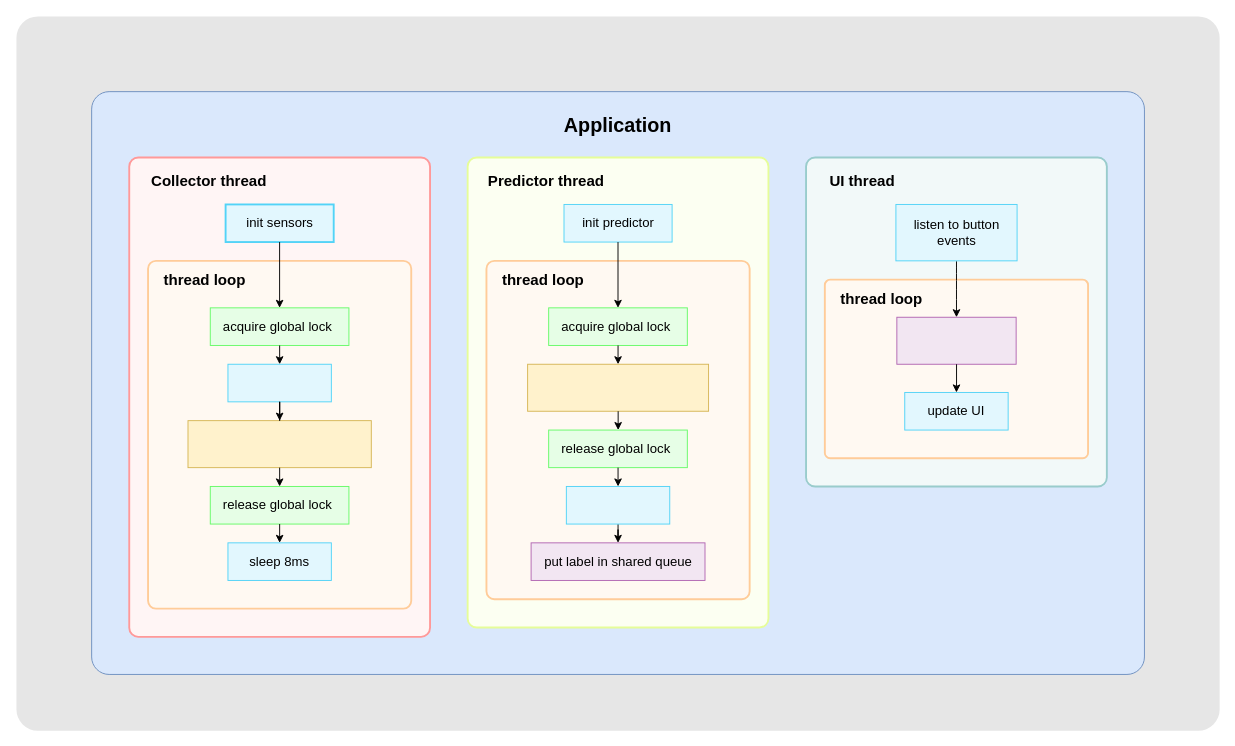
Some shapes in this 1235 by 746 pixel diagram are drawn without their labels. Each missing label, with the centre of its shape:
get label from shared queue: the point at 956,340
predict label: the point at 617,505
read from shared memory: the point at 618,387
read sensors: the point at 279,382
write to shared memory: the point at 279,444
